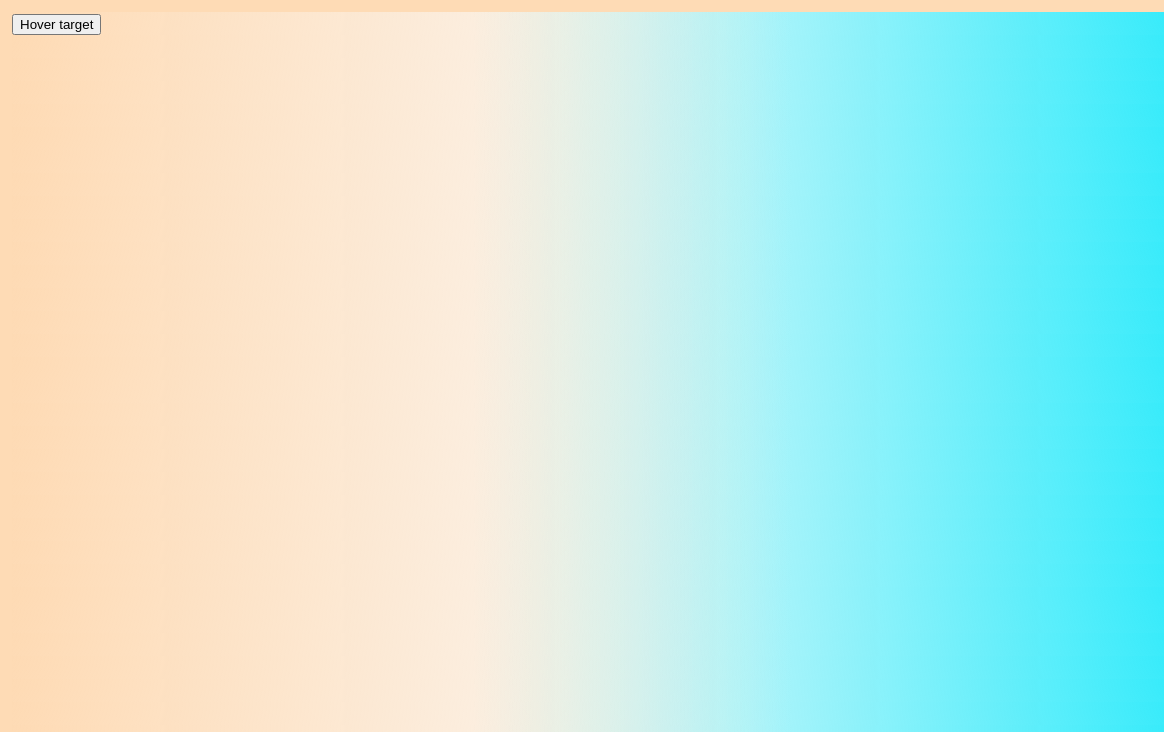
Tooltip › opens on hover and closes on unhover in uncontrolled mode
Later steps or results of the test are not shown.
Hover over the button "Hover target" at (57, 24), box [12,14,101,35]
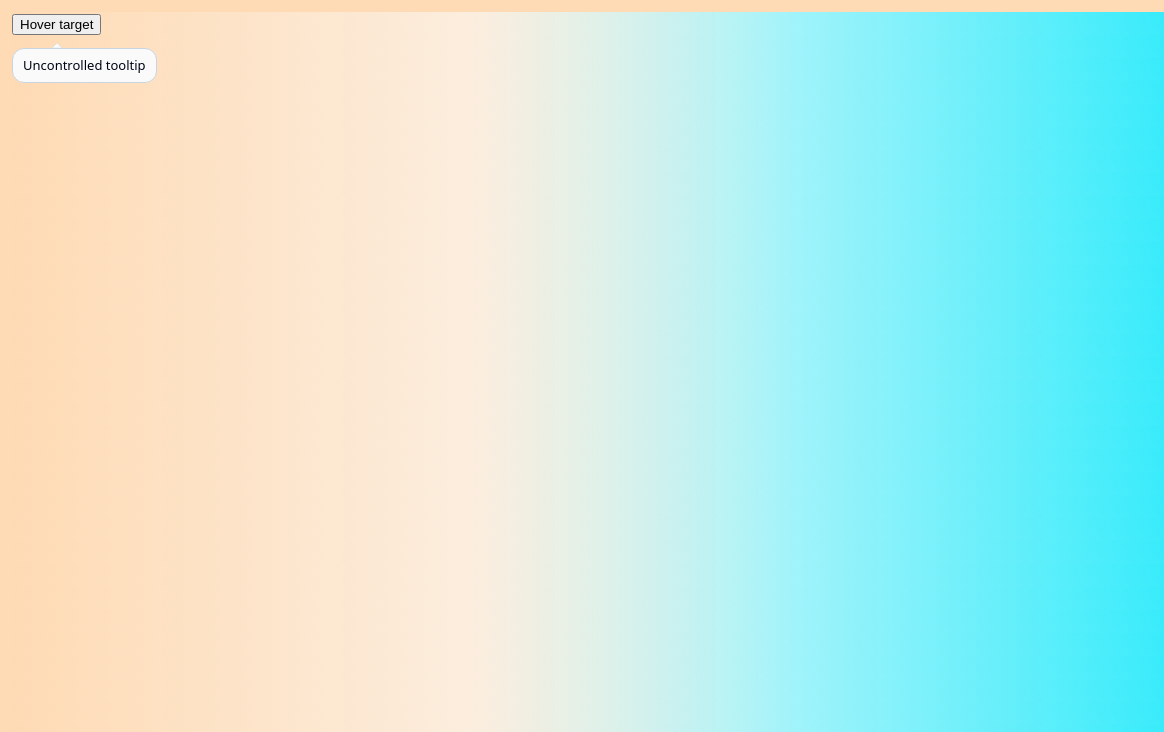
Now the tooltip reads "Uncontrolled tooltip", box [23,56,146,74]
